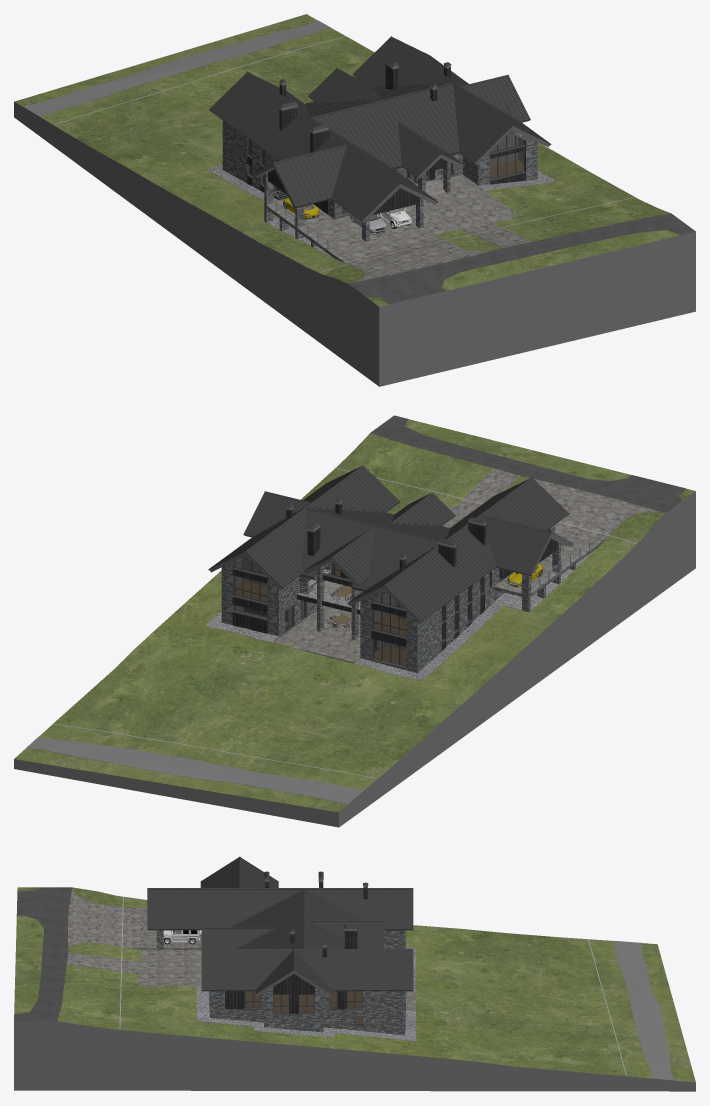
The model's file is world.opt.glb.
3 views of the same model, one above another, from view 1: azimuth 30°, elevation 25°; view 2: azimuth 150°, elevation 25°; view 3: azimuth 270°, elevation 25° (orthographic). The views are drawn at different scales.
Size of what is drawn, in the model's own units: 35.25 by 14.52 by 75.48.
Materials: 94 (19 with a texture image).
